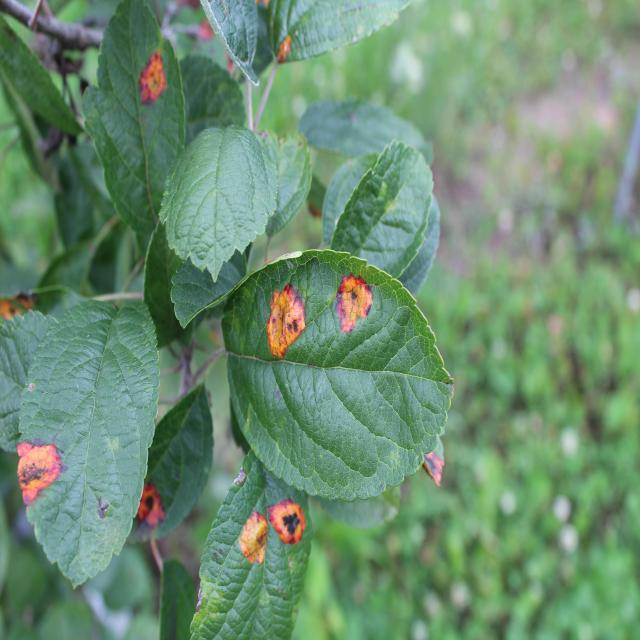Rust: (331, 241, 374, 355), (13, 431, 65, 512), (265, 274, 308, 359), (272, 495, 314, 568), (231, 507, 272, 573), (132, 470, 167, 545), (136, 44, 168, 110), (276, 27, 295, 82)
